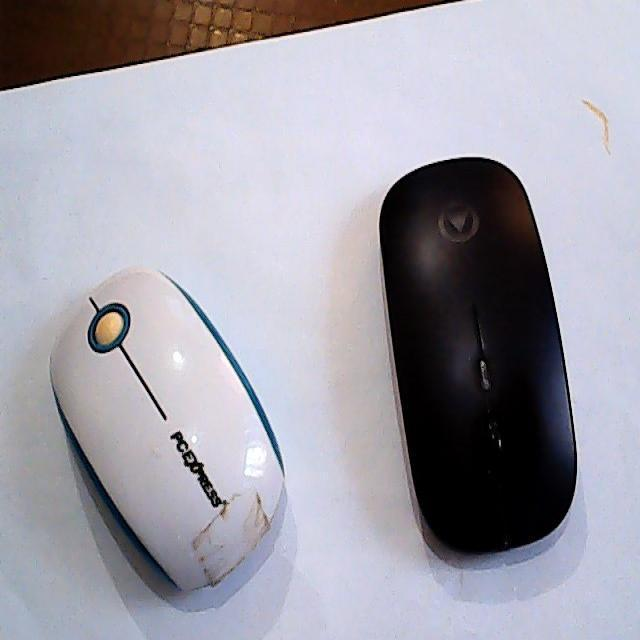Mouse: (45, 256, 288, 606), (378, 156, 579, 556)
